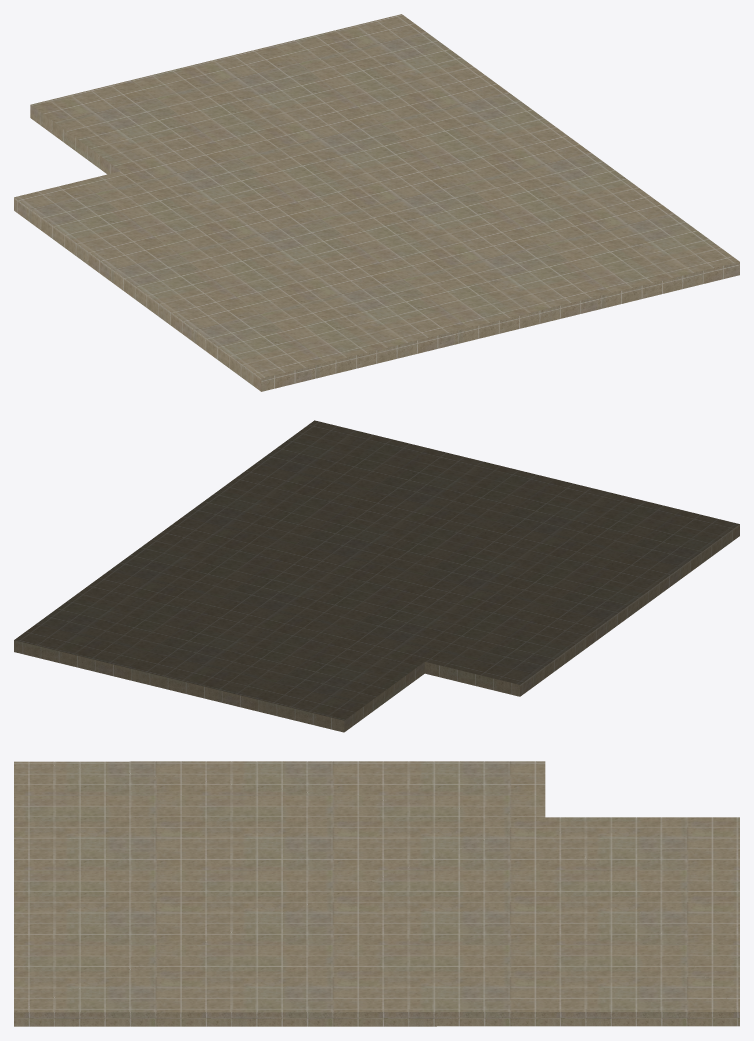
File: Floor_1f075422.obj
3 views of the same model, one above another, from view 1: azimuth 30°, elevation 25°; view 2: azimuth 150°, elevation 25°; view 3: azimuth 270°, elevation 25° (orthographic). The views are drawn at different scales.
Visible parts, largest first — view 1: mesh_0a7545f5; view 2: mesh_0a7545f5; view 3: mesh_0a7545f5.
Boxes of the visible parts, x1,y1,x2,y2 form: mesh_0a7545f5: (14, 14, 739, 391); mesh_0a7545f5: (14, 420, 739, 732); mesh_0a7545f5: (14, 761, 739, 1026).
Size of the model in its own units: 3.35 by 0.091 by 4.1.
